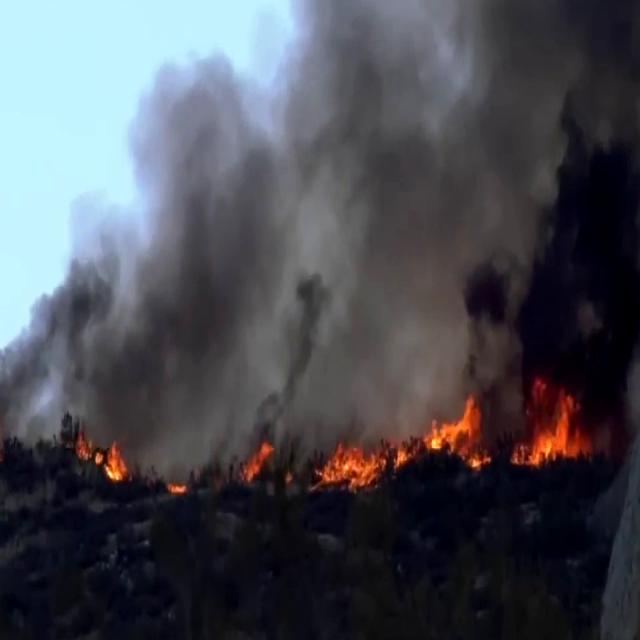fire: (287, 392, 589, 466)
smoke: (279, 0, 640, 350)
